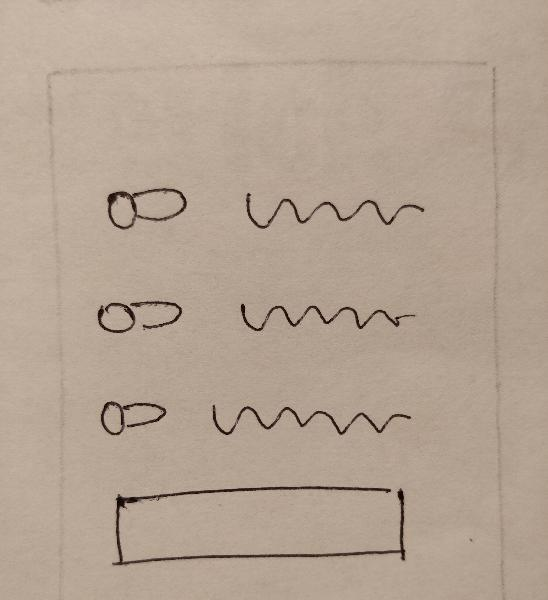switch: (83, 280, 190, 349), (79, 380, 181, 447), (99, 180, 198, 236)
text: (230, 176, 434, 243), (202, 387, 424, 445), (232, 285, 421, 343)
text_input: (94, 472, 431, 584)
